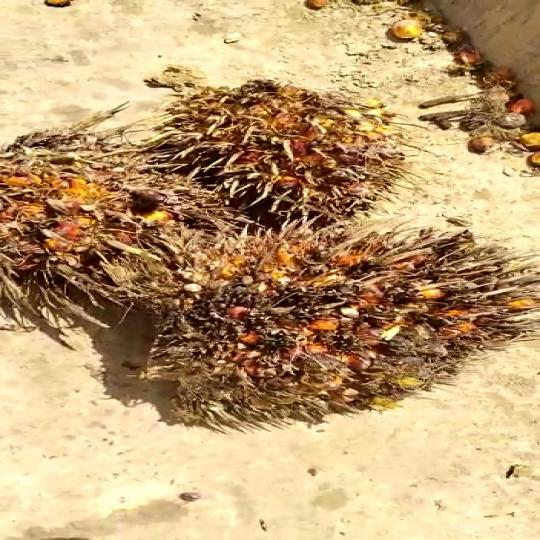terlalu masak: (126, 228, 540, 419), (142, 70, 408, 228)
